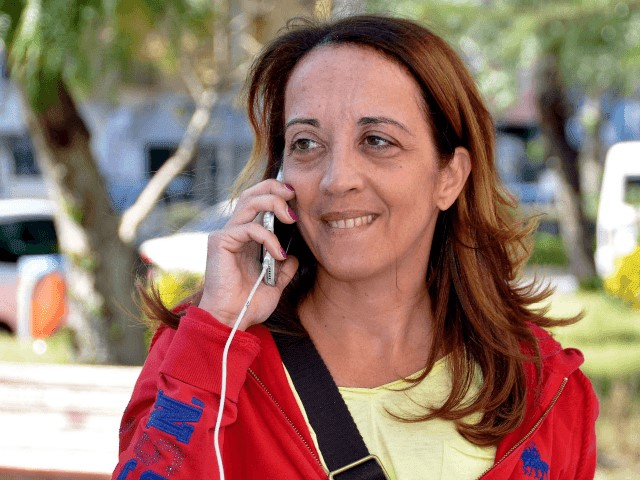face_no_mask: (274, 15, 489, 280)
